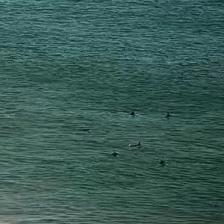surfer: (130, 143, 142, 148), (78, 128, 92, 132), (112, 152, 120, 158), (164, 113, 173, 118), (158, 159, 165, 165), (129, 112, 135, 116)
